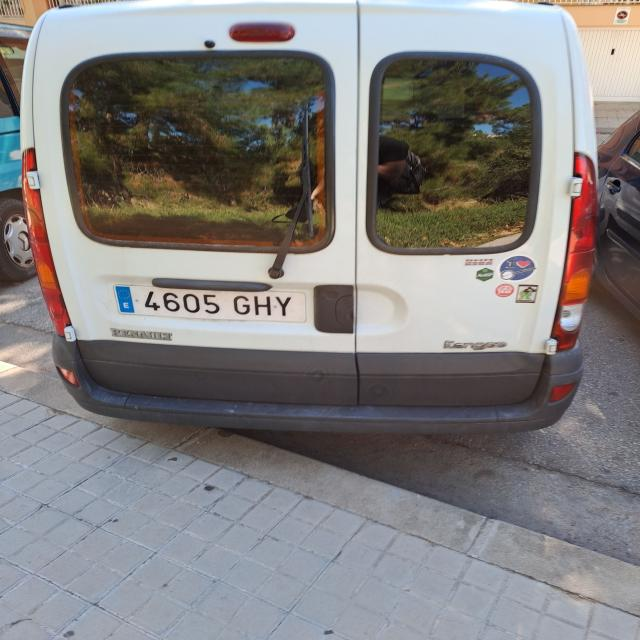license_plate-34Td: (114, 285, 306, 323)
